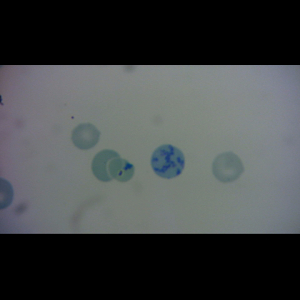aggregate reticulocyte: (150, 144, 187, 180)
erythrocyte: (90, 148, 123, 183), (211, 151, 246, 183), (71, 122, 102, 151), (105, 156, 136, 183)
